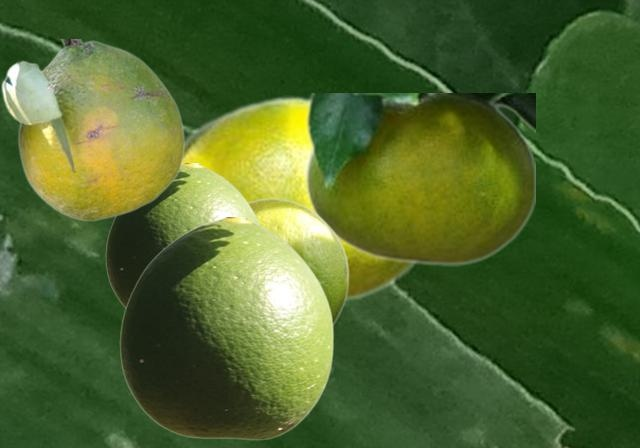dalandan: (183, 95, 416, 305), (119, 217, 333, 439), (305, 93, 534, 265), (0, 39, 184, 220), (105, 163, 260, 307), (248, 197, 348, 326)
